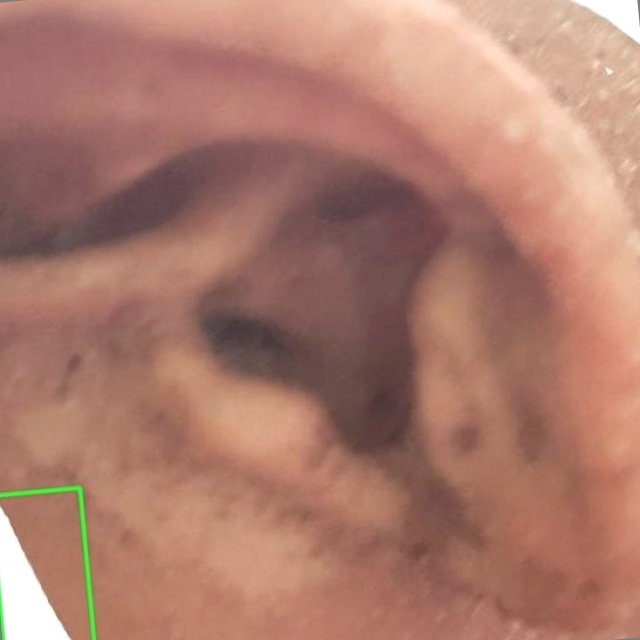Contact Dermatitis: (0, 487, 94, 639)
